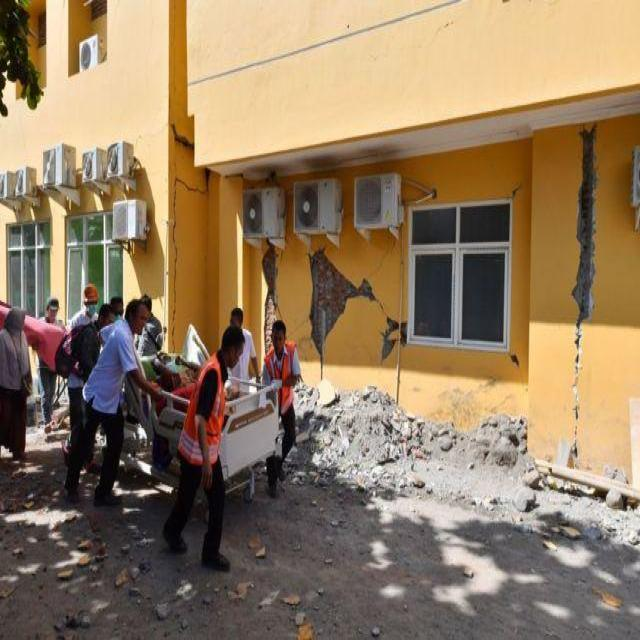damage: (277, 356, 553, 542), (290, 231, 394, 367), (148, 180, 213, 354), (565, 123, 607, 349), (240, 230, 294, 356), (565, 358, 596, 481)
